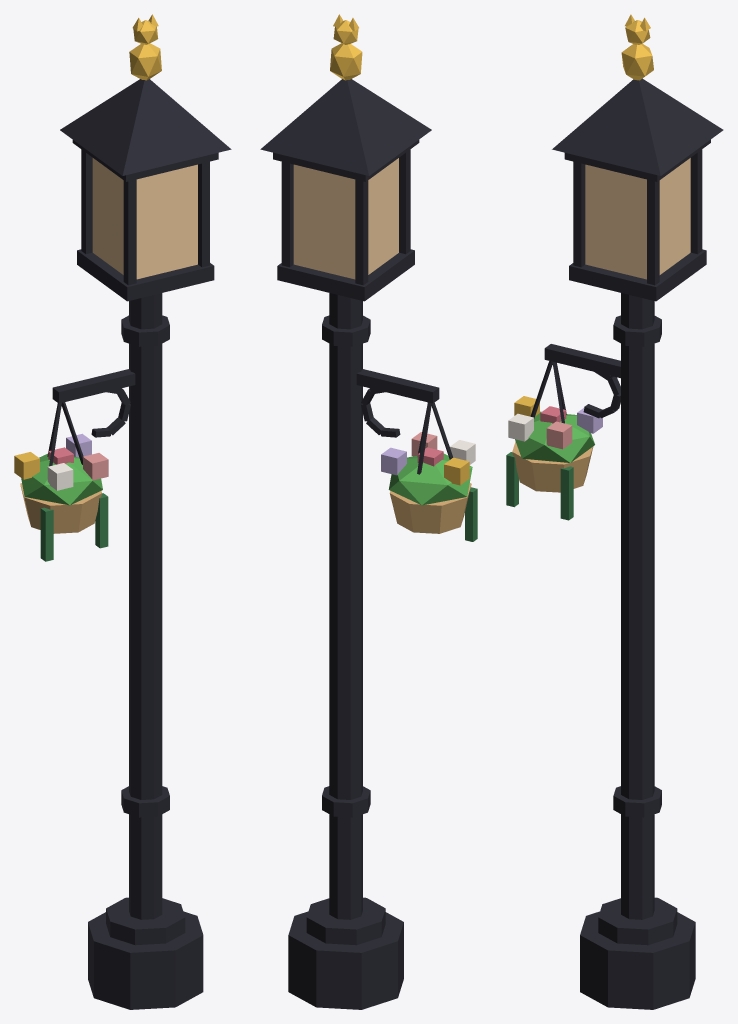
The model's file is CatCafe_Lawn_LampPost.glb.
3 views of the same model, side by side, from view 1: azimuth 30°, elevation 25°; view 2: azimuth 150°, elevation 25°; view 3: azimuth 330°, elevation 25° (orthographic).
Parts seen in each view (by area): view 1: CatCafe_Lawn_LampPost, CatCafe_Lawn_LampPost_Bulbs; view 2: CatCafe_Lawn_LampPost, CatCafe_Lawn_LampPost_Bulbs; view 3: CatCafe_Lawn_LampPost, CatCafe_Lawn_LampPost_Bulbs.
Boxes of the visible parts, bbox=[...] form: CatCafe_Lawn_LampPost: bbox=[14, 14, 231, 1009]; CatCafe_Lawn_LampPost_Bulbs: bbox=[92, 158, 197, 279]; CatCafe_Lawn_LampPost: bbox=[260, 14, 477, 1009]; CatCafe_Lawn_LampPost_Bulbs: bbox=[293, 158, 398, 279]; CatCafe_Lawn_LampPost: bbox=[506, 14, 723, 1009]; CatCafe_Lawn_LampPost_Bulbs: bbox=[585, 158, 690, 279].
Size of the model in its own units: 1.3 by 6.8 by 0.8.
Materials: 1 (1 with a texture image).
